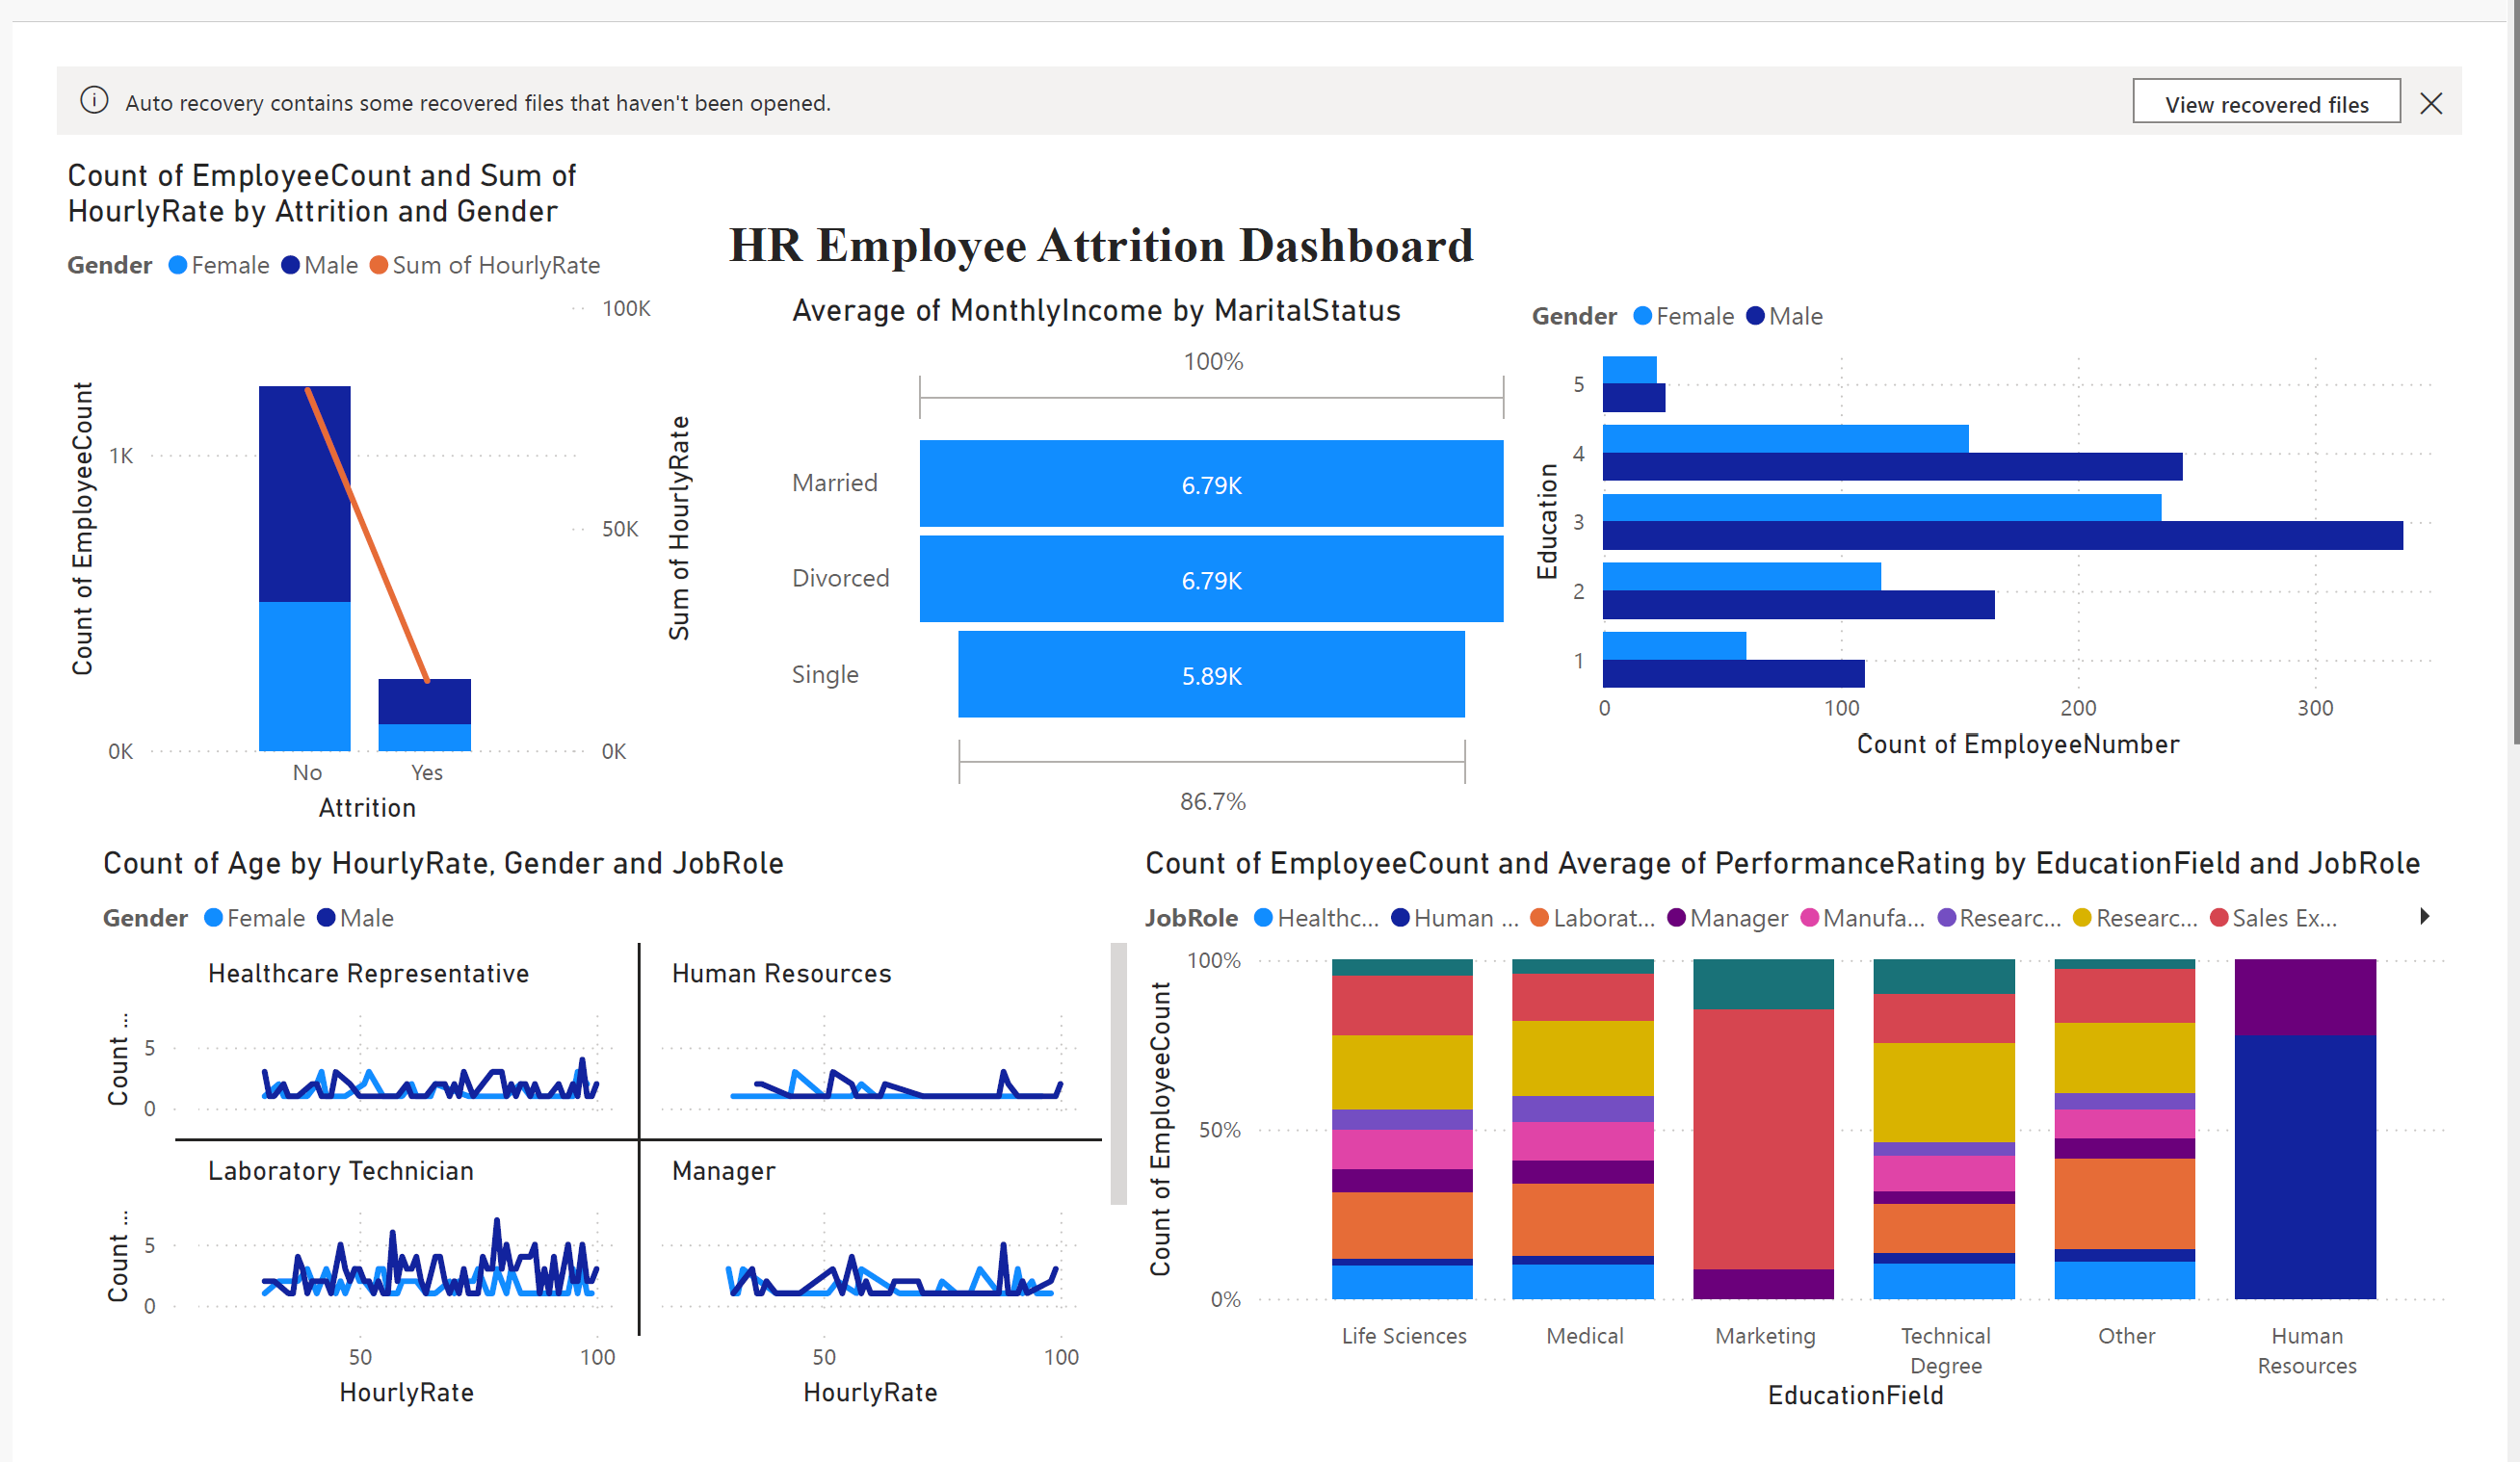

The page's visual inventory and layout, read from the dashboard file:
{"tool":"powerbi","page":{"name":"Page 1","canvas":[1280,720],"ordinal":0},"visuals":[{"type":"lineChart","fields":{"Category":["WA_Fn-UseC_-HR-Employee-Attrition.HourlyRate"],"Y":["CountNonNull(WA_Fn-UseC_-HR-Employee-Attrition.Age)"],"Series":["WA_Fn-UseC_-HR-Employee-Attrition.Gender"],"Rows":["WA_Fn-UseC_-HR-Employee-Attrition.JobRole"]},"box":[18.9,412.8,554.8,306.7],"z":1000},{"type":"lineStackedColumnComboChart","fields":{"Category":["WA_Fn-UseC_-HR-Employee-Attrition.Attrition"],"Y":["CountNonNull(WA_Fn-UseC_-HR-Employee-Attrition.EmployeeCount)"],"Y2":["Sum(WA_Fn-UseC_-HR-Employee-Attrition.HourlyRate)"],"Series":["WA_Fn-UseC_-HR-Employee-Attrition.Gender"]},"box":[0,47.3,342.7,359.8],"z":2000},{"type":"clusteredBarChart","fields":{"Series":["WA_Fn-UseC_-HR-Employee-Attrition.Gender"],"Y":["CountNonNull(WA_Fn-UseC_-HR-Employee-Attrition.EmployeeNumber)"],"Category":["WA_Fn-UseC_-HR-Employee-Attrition.Education"]},"box":[780.1,73.8,499.9,299.2],"z":3000},{"type":"funnel","fields":{"Category":["WA_Fn-UseC_-HR-Employee-Attrition.MaritalStatus"],"Y":["Avg(WA_Fn-UseC_-HR-Employee-Attrition.MonthlyIncome)"]},"box":[386.3,119.3,393.8,287.8],"z":4000},{"type":"hundredPercentStackedColumnChart","fields":{"Category":["WA_Fn-UseC_-HR-Employee-Attrition.EducationField"],"Series":["WA_Fn-UseC_-HR-Employee-Attrition.JobRole"],"Y":["CountNonNull(WA_Fn-UseC_-HR-Employee-Attrition.EmployeeCount)"]},"box":[573.7,412.8,706.3,306.7],"z":5000},{"type":"textbox","box":[352.2,73.8,927.8,45.4],"z":5001}]}

Visuals, with their boxes on the page's 1280x720 design canvas (x1, y1, x2, y2). These are canvas units, not pixel positions in the 2520x1462 screenshot, which may show the page scaled, cropped or inside an application window:
lineChart - WA_Fn-UseC_-HR-Employee-Attrition.HourlyRate x CountNonNull(WA_Fn-UseC_-HR-Employee-Attrition.Age): left=19, top=413, right=574, bottom=720
lineStackedColumnComboChart - WA_Fn-UseC_-HR-Employee-Attrition.Attrition x CountNonNull(WA_Fn-UseC_-HR-Employee-Attrition.EmployeeCount): left=0, top=47, right=343, bottom=407
clusteredBarChart - WA_Fn-UseC_-HR-Employee-Attrition.Gender x CountNonNull(WA_Fn-UseC_-HR-Employee-Attrition.EmployeeNumber): left=780, top=74, right=1280, bottom=373
funnel - WA_Fn-UseC_-HR-Employee-Attrition.MaritalStatus x Avg(WA_Fn-UseC_-HR-Employee-Attrition.MonthlyIncome): left=386, top=119, right=780, bottom=407
hundredPercentStackedColumnChart - WA_Fn-UseC_-HR-Employee-Attrition.EducationField x WA_Fn-UseC_-HR-Employee-Attrition.JobRole: left=574, top=413, right=1280, bottom=720
textbox: left=352, top=74, right=1280, bottom=119
